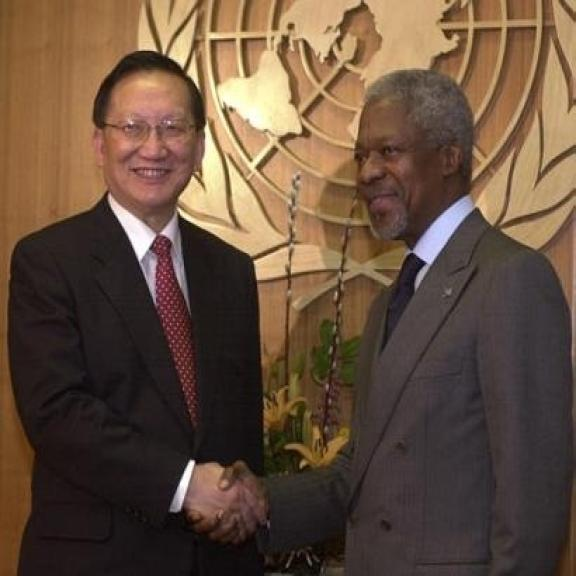face: (93, 74, 210, 218), (354, 90, 464, 243)
